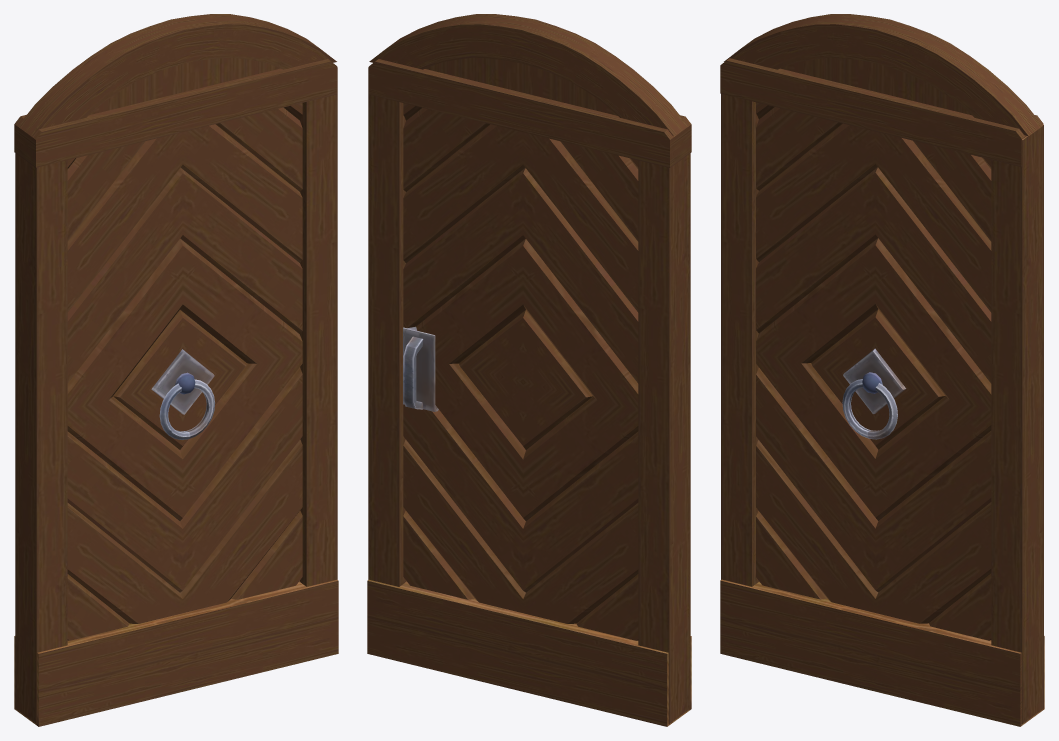
Rendered from Door_6_Round.gltf.
The picture shows the model from 3 angles, left to right: view 1: azimuth 30°, elevation 25°; view 2: azimuth 150°, elevation 25°; view 3: azimuth 330°, elevation 25°; orthographic projection.
Parts seen in each view (by area): view 1: Door_6_Round; view 2: Door_6_Round; view 3: Door_6_Round.
Boxes of the visible parts, bbox=[...] form: Door_6_Round: bbox=[14, 14, 338, 726]; Door_6_Round: bbox=[367, 14, 691, 726]; Door_6_Round: bbox=[720, 14, 1044, 726].
Bounding box in the file's own units: 1.13 × 2.32 × 0.1995.
Materials: 2 (2 with a texture image).
